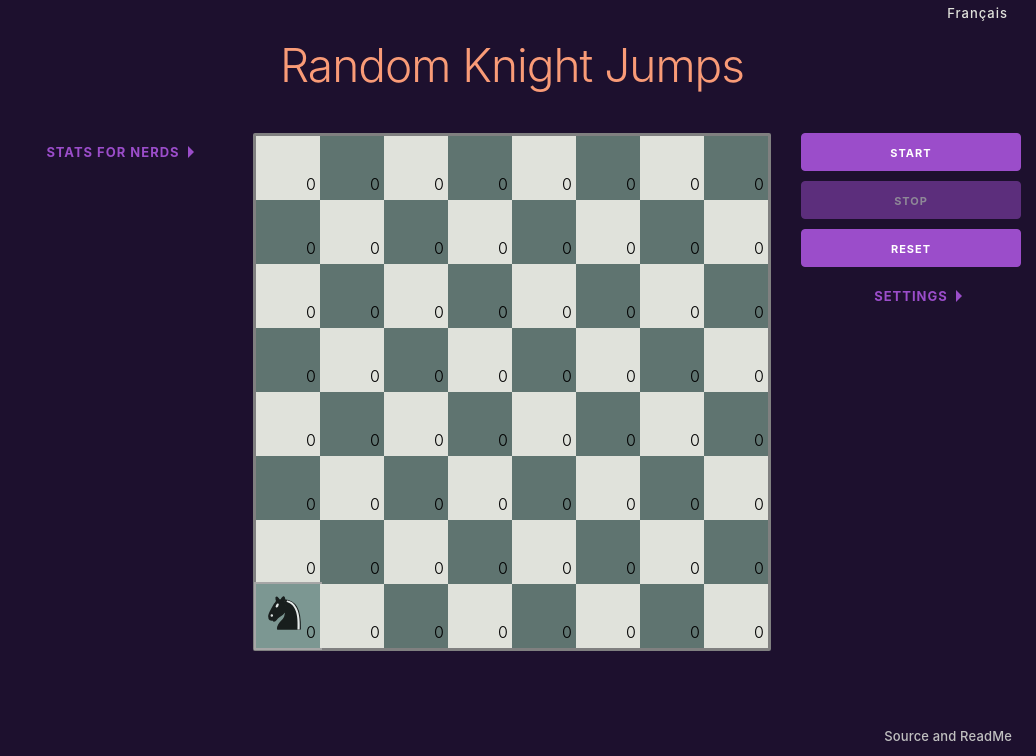
it: The App root › allows the user to switch from English to français
Expected: the button "Start" is shown, [801,133,1021,171]
Step 1. Click the button "Français" → (978, 14), box [943,3,1012,24]
(page scrolled)
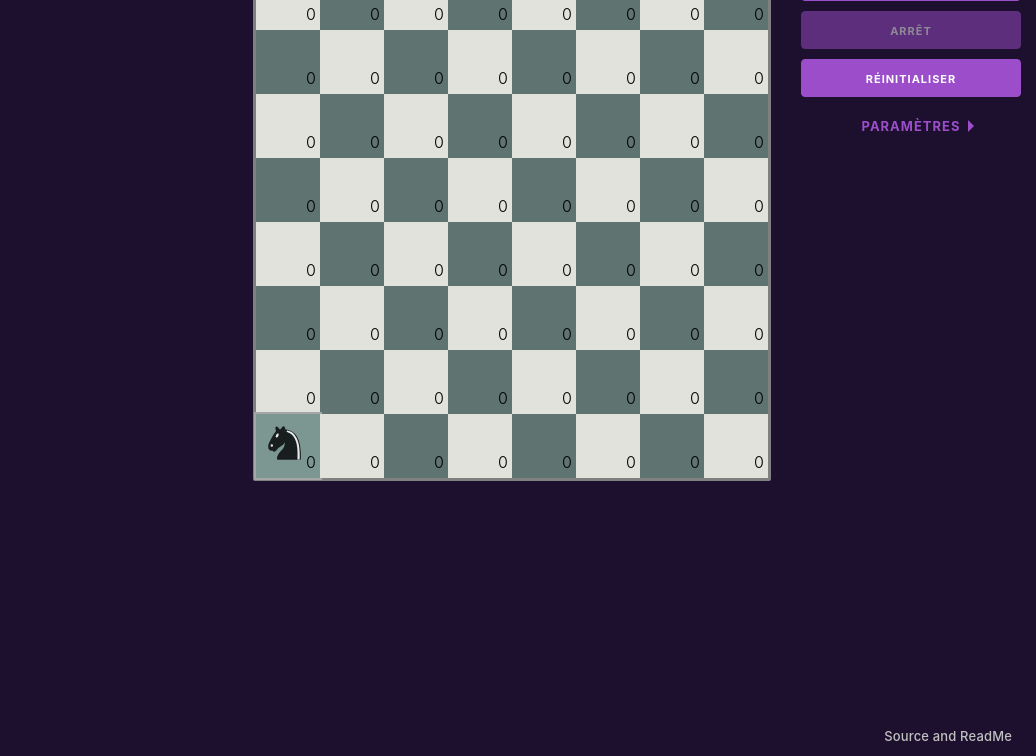
Expected: the button "Start" is gone
